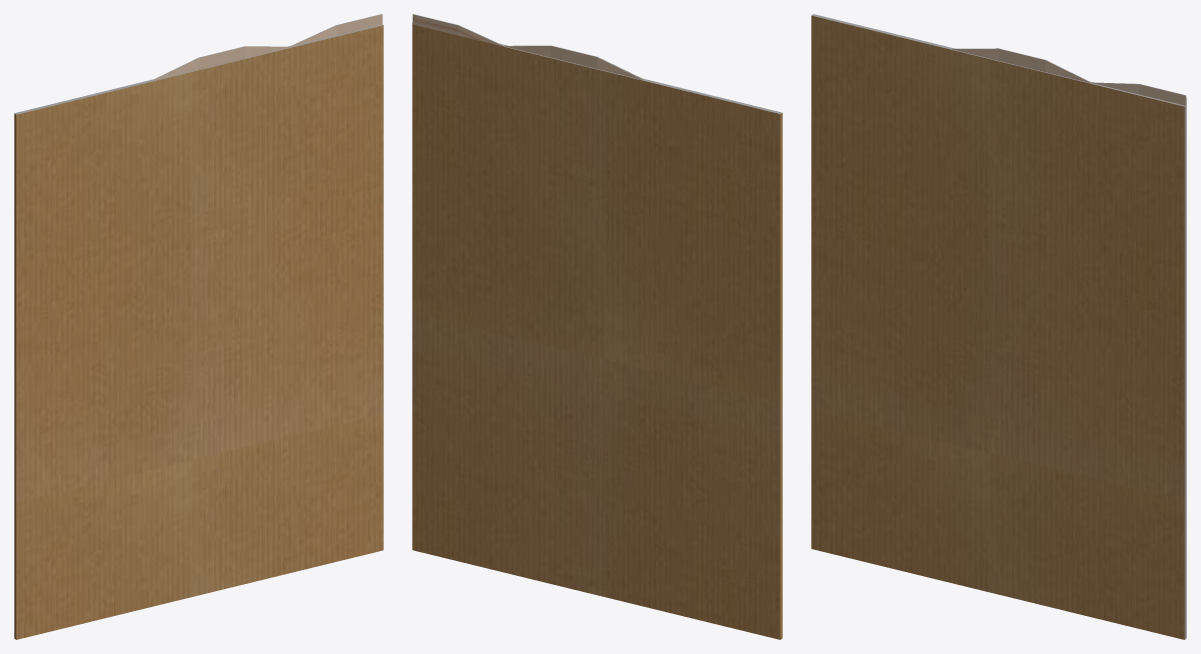
3 views of the same model, side by side, from view 1: azimuth 30°, elevation 25°; view 2: azimuth 150°, elevation 25°; view 3: azimuth 330°, elevation 25° (orthographic).
Parts seen in each view (by area): view 1: File; view 2: File; view 3: File.
Boxes of the visible parts, <box> form: File: <box>14,14,383,639</box>; File: <box>412,14,782,639</box>; File: <box>811,14,1186,639</box>.
Size of the model in its own units: 137 by 192 by 1.38.
